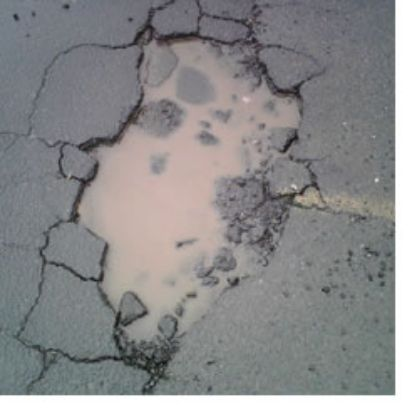pothole: (54, 21, 325, 387)
